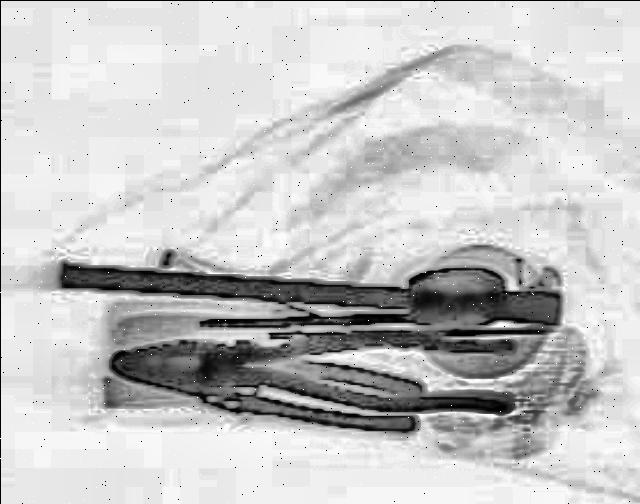Pliers: (122, 323, 520, 422)
